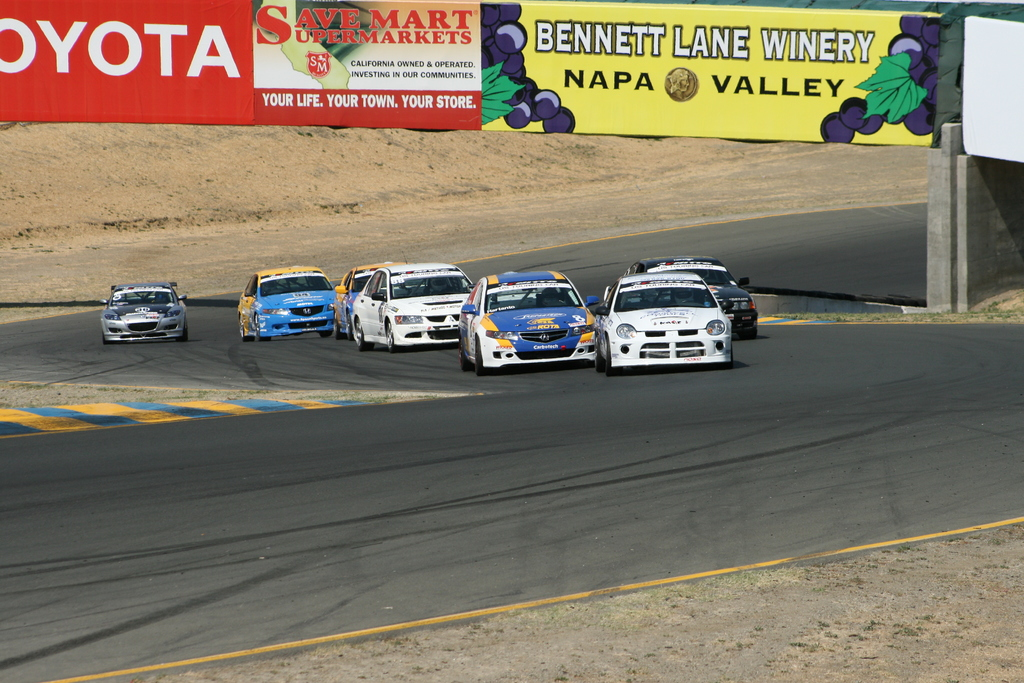mobil: (583, 254, 733, 382), (456, 269, 600, 379), (346, 260, 483, 360), (239, 263, 330, 338), (98, 276, 193, 344)
